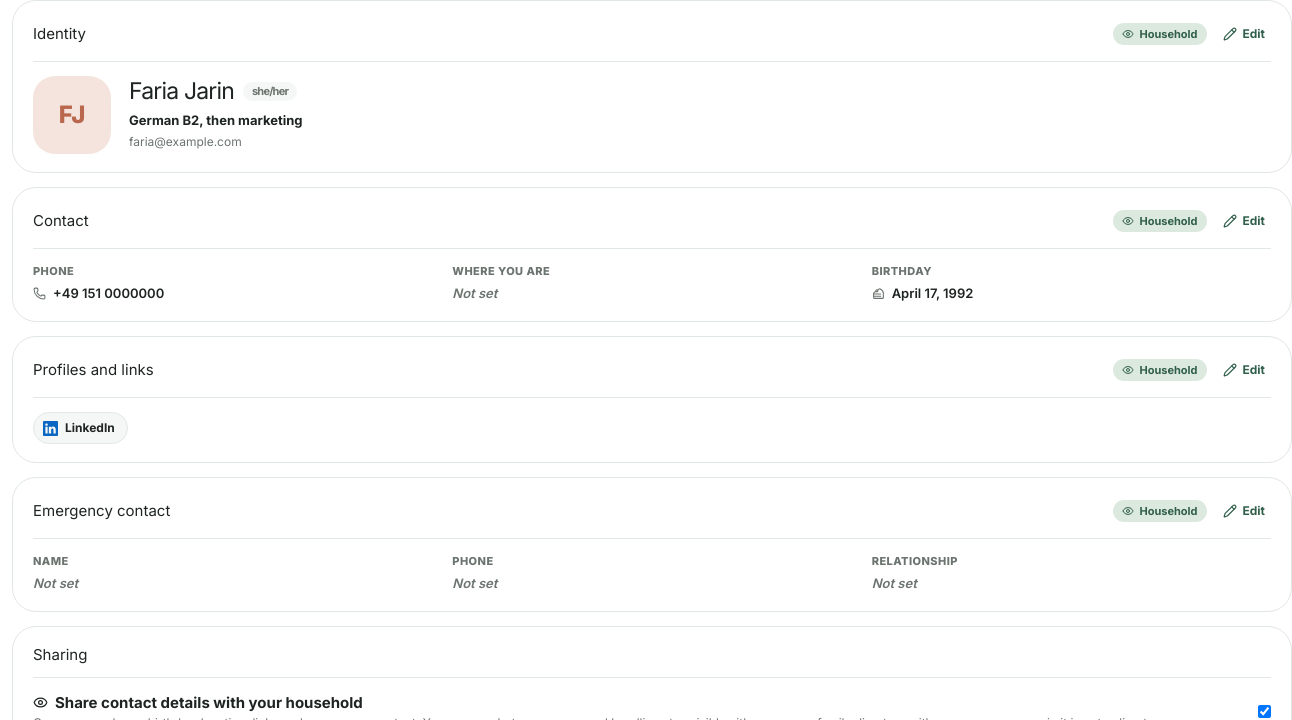
Scenario: ProfileSettings › refuses to save an address it cannot resolve, naming which one
expect the heading "Faria Jarin she/her" is shown: met, box [129, 78, 303, 106]
Click the button with aria-label "Edit profiles and links" at point(1244, 370), box [1216, 355, 1271, 385]
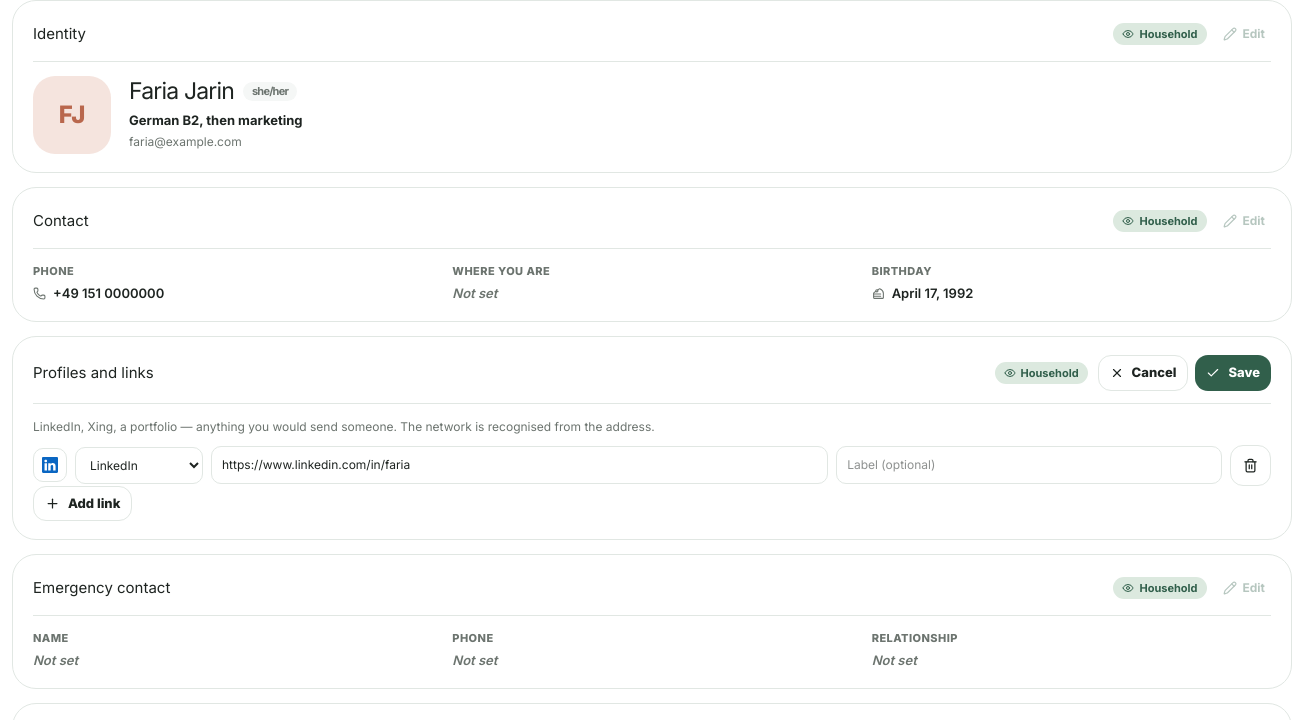
Replace the text in the field named "Address for link 1" with "not a url" at point(520, 465), box [211, 446, 828, 484]
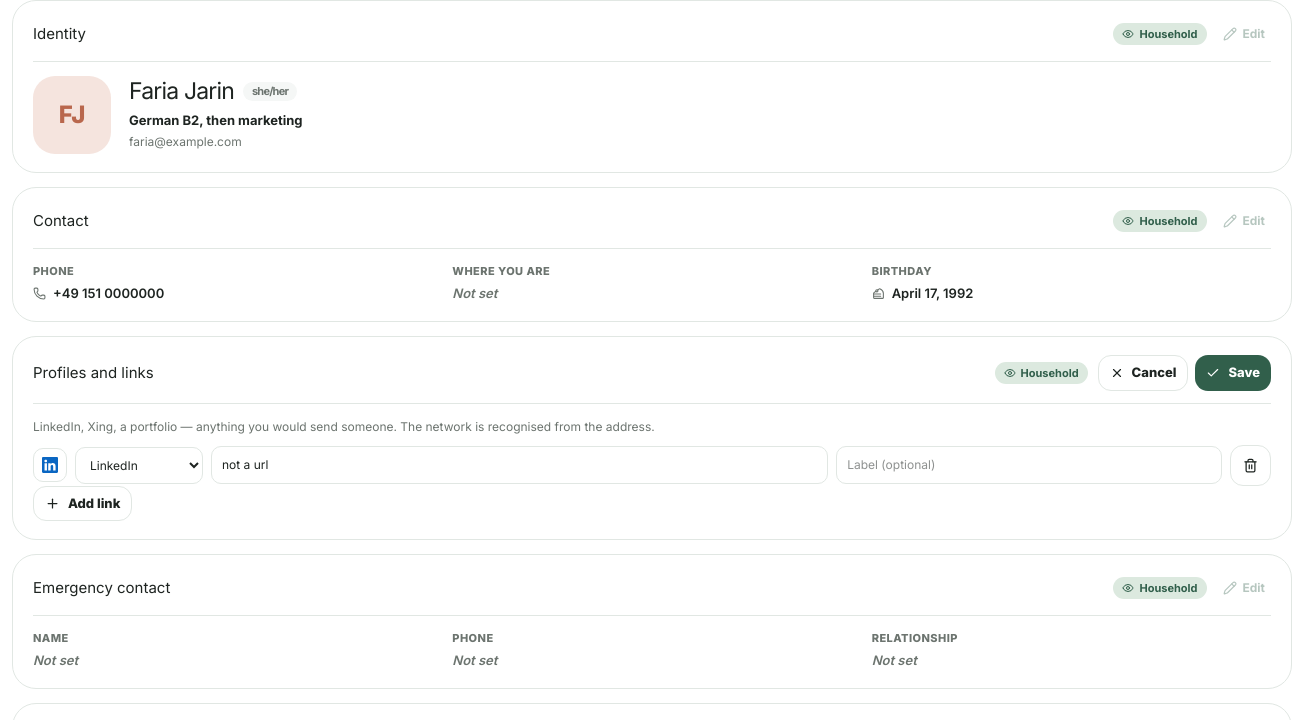
Click the button "Save" at point(1233, 373), box [1195, 355, 1271, 390]
(page scrolled)
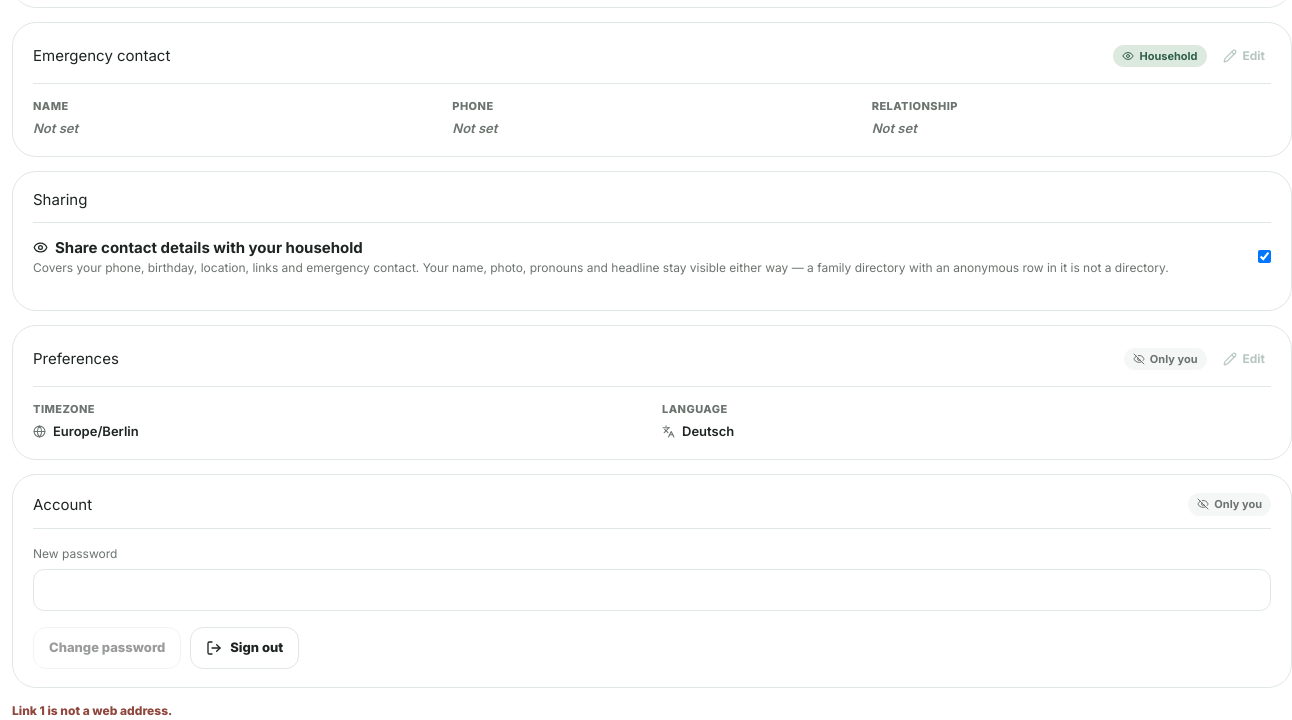
expect the message reads "Link 1 is not a web address.": met, box [12, 702, 172, 718]
